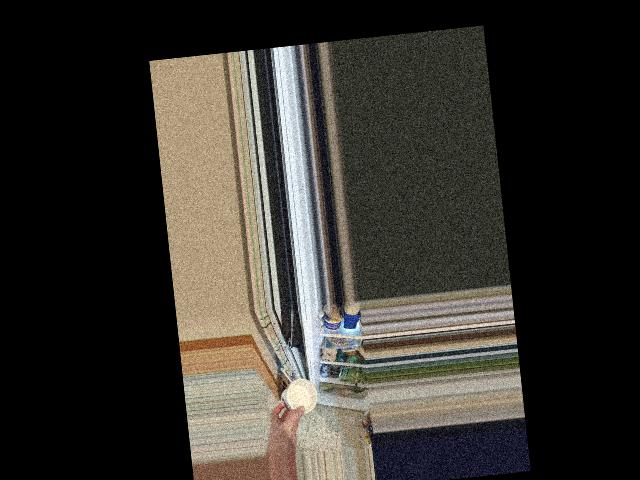cotage: (275, 376, 316, 414)
